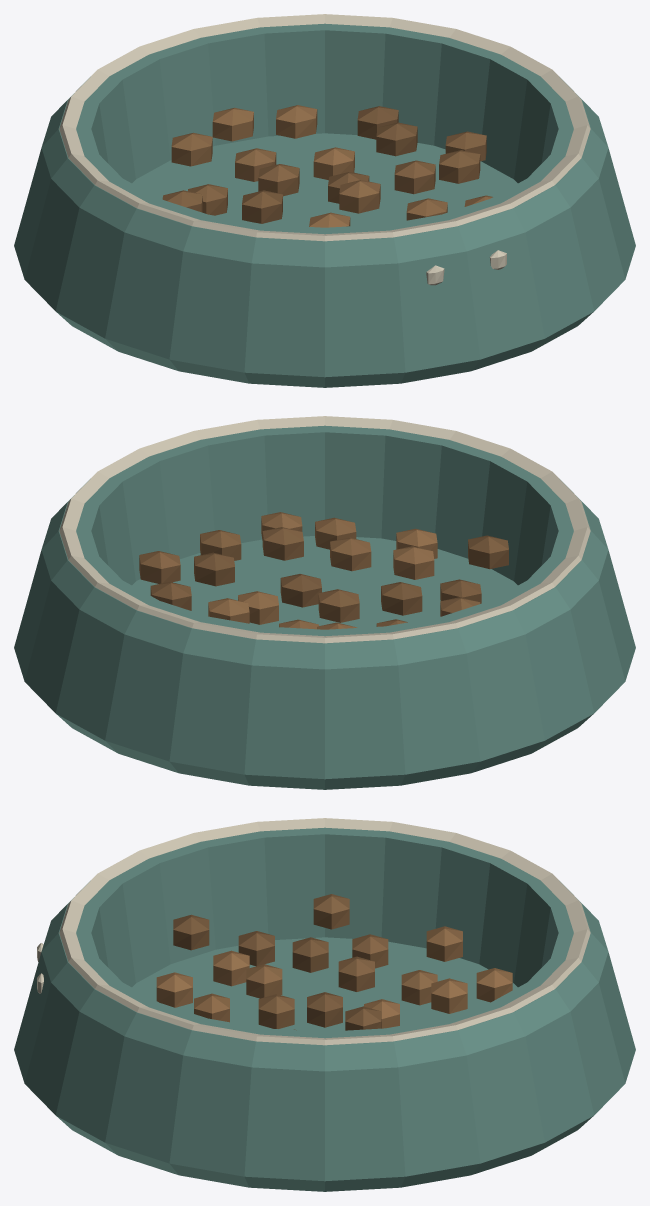
Rendered from pet_bowl.glb.
3 renders of one model, top to bottom at view 1: azimuth 30°, elevation 25°; view 2: azimuth 150°, elevation 25°; view 3: azimuth 270°, elevation 25°, orthographic.
Visible parts, largest first — view 1: geometry, food; view 2: geometry, food; view 3: geometry, food.
Part boxes in pixels (box(x1,y1,x2,y2)): geometry: box(14, 14, 635, 387); food: box(162, 105, 492, 227); geometry: box(14, 416, 635, 789); food: box(139, 512, 508, 629); geometry: box(14, 818, 635, 1191); food: box(156, 894, 512, 1030).
Size of the model in its own units: 0.362 by 0.0896 by 0.362.
